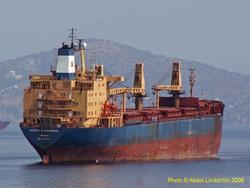Cargoship: (17, 27, 228, 166)
